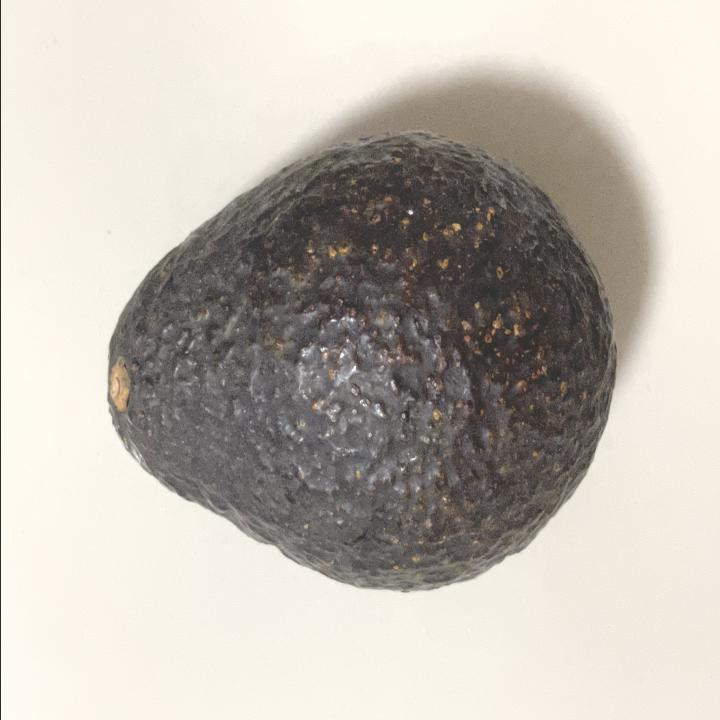Level2: (102, 119, 620, 604)
